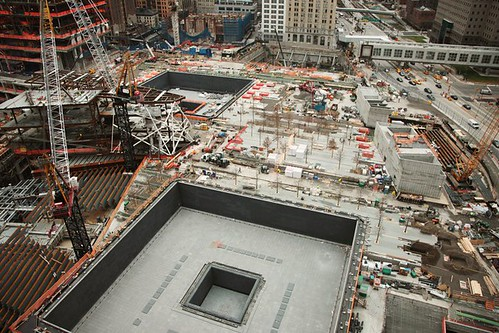building: (256, 1, 347, 58), (430, 1, 499, 50)
crane: (32, 1, 105, 253), (66, 4, 172, 172)
